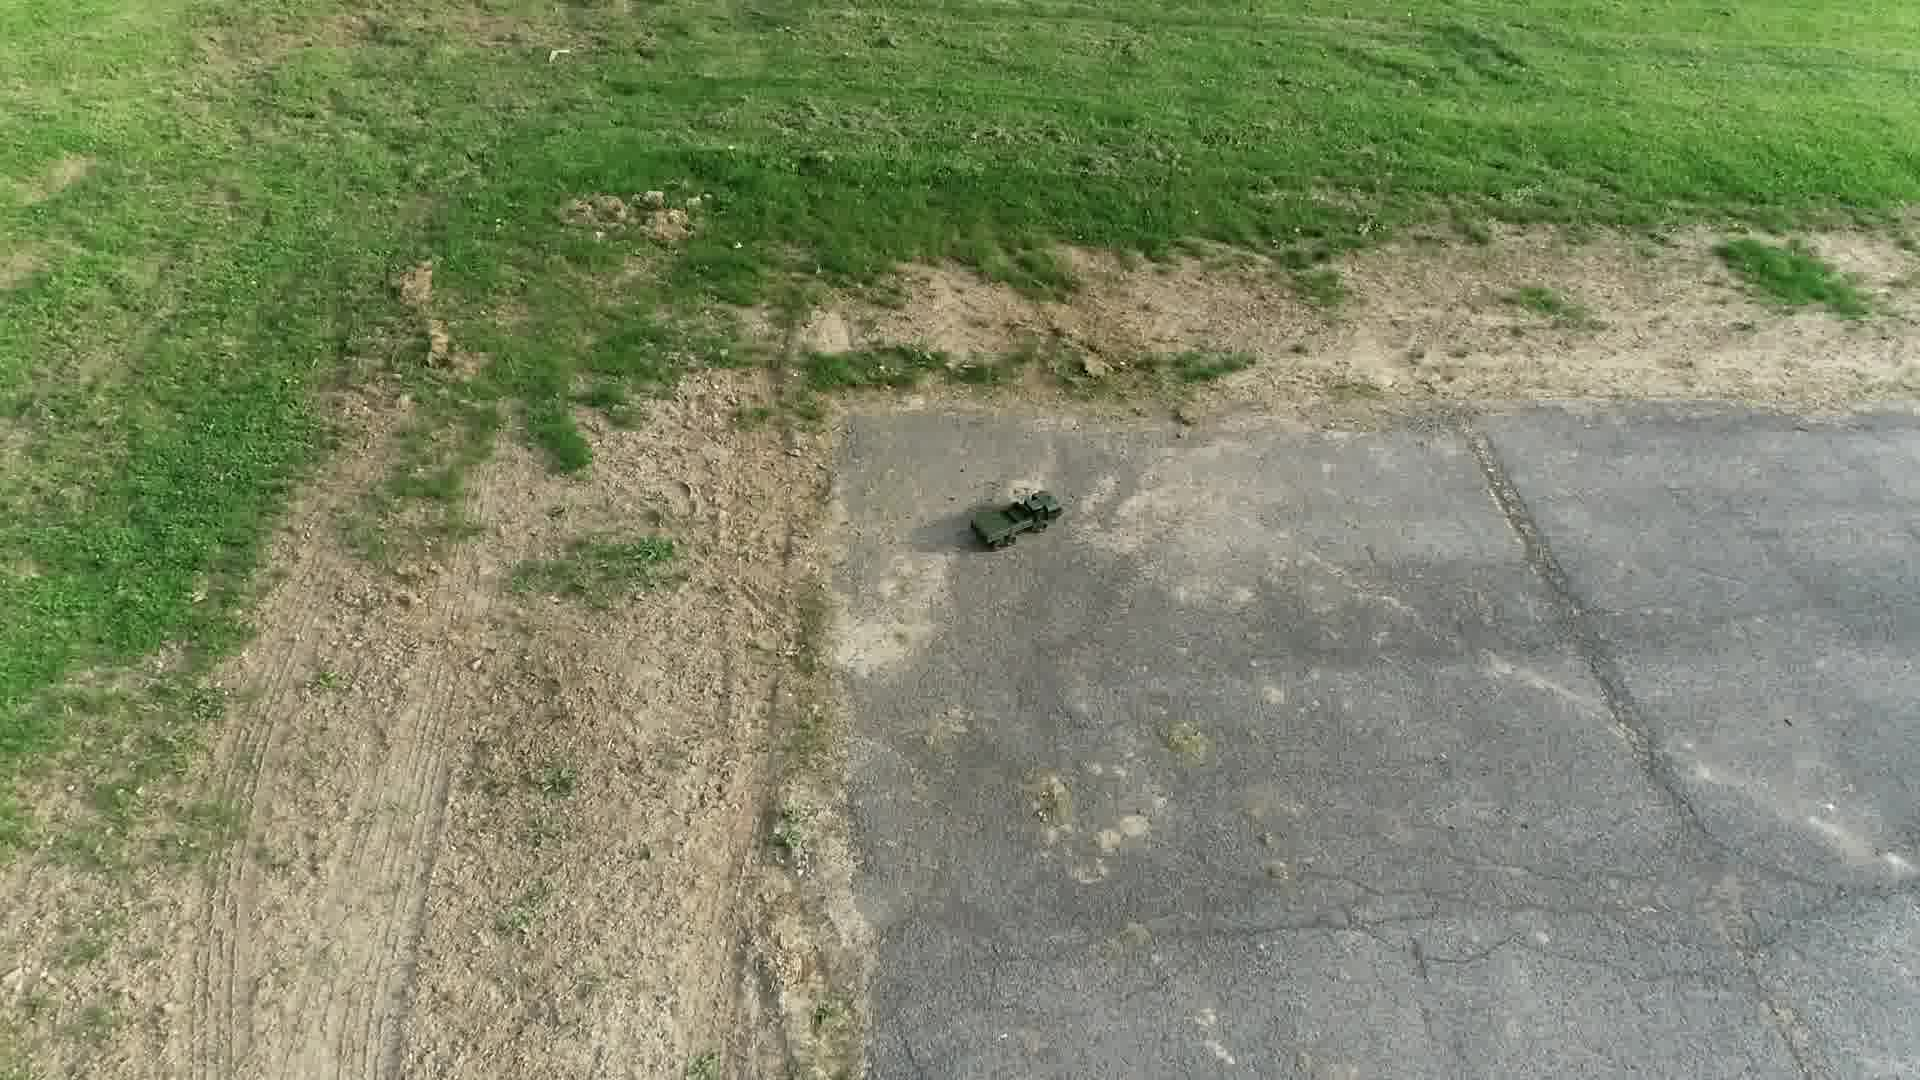transporter9: (964, 484, 1065, 554)
